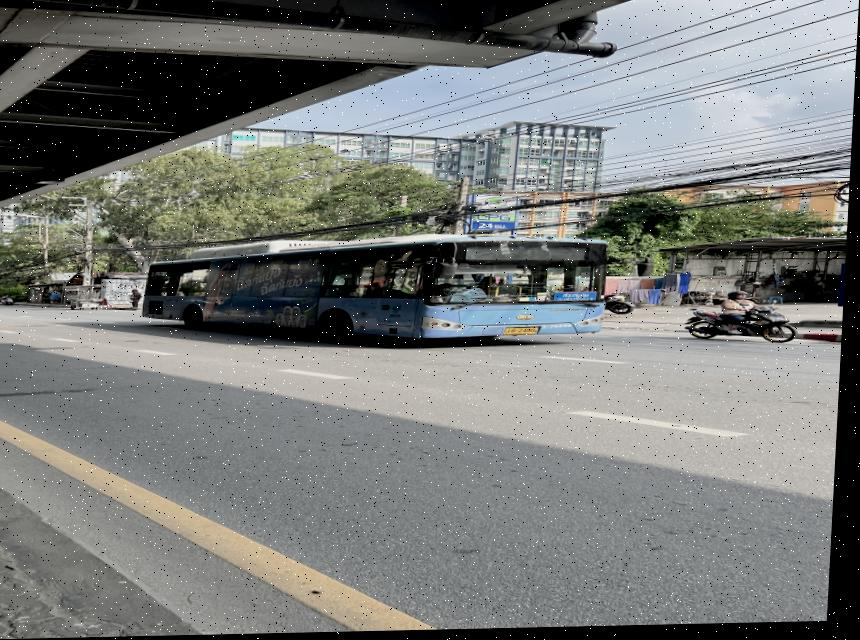BMTA-bus: (146, 237, 613, 346)
Bus Line Number: (553, 248, 591, 265)
Bus Side Number: (544, 327, 576, 332)
Destination Sign: (558, 294, 599, 304)
